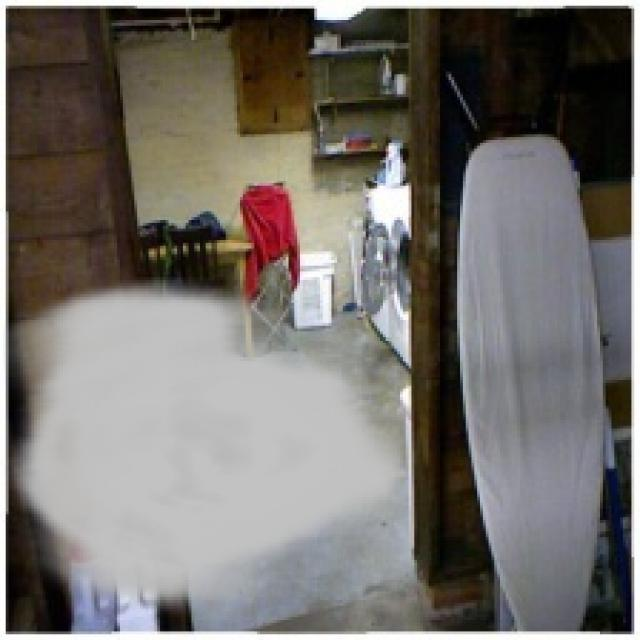Smoke: (2, 277, 418, 620)
